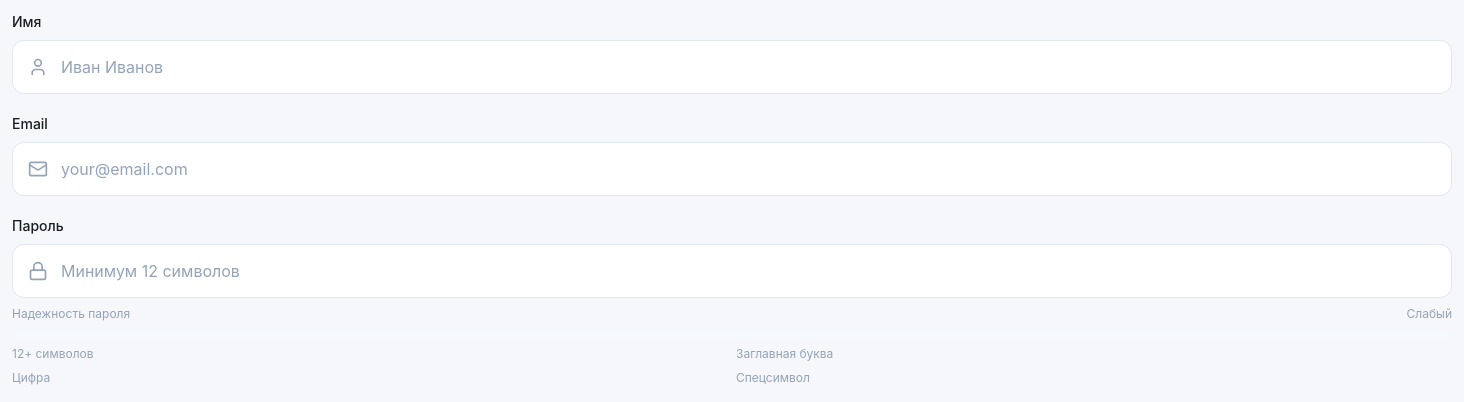
it: RegisterForm › shows strength indicator
This screenshot has width=1464, height=402.
Type "Password123!" into the password field labelled "Пароль" at (732,271), box [12,244,1452,298]
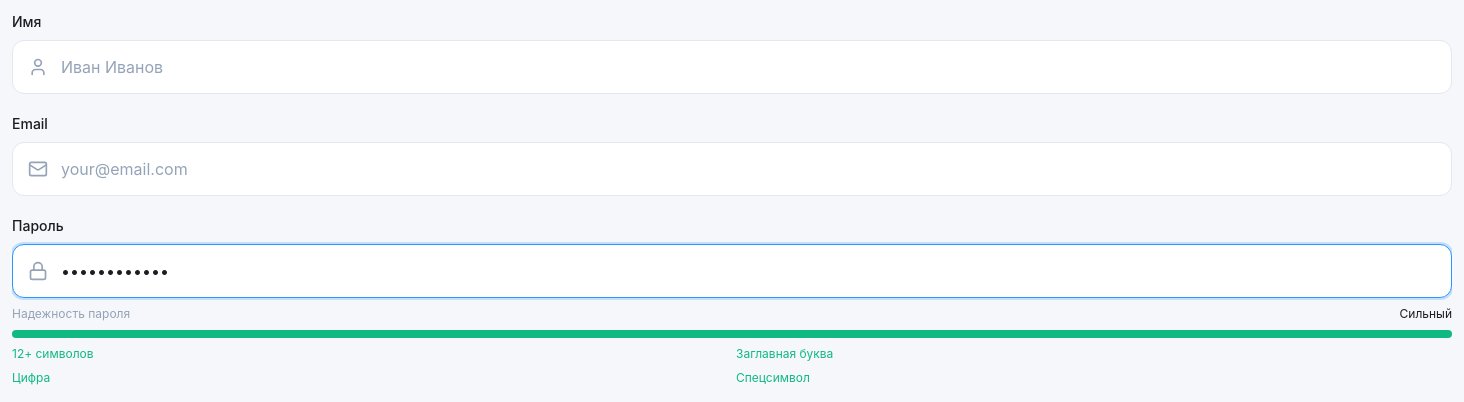
Now the text "Сильный" is shown, box [1400,306,1452,322]
